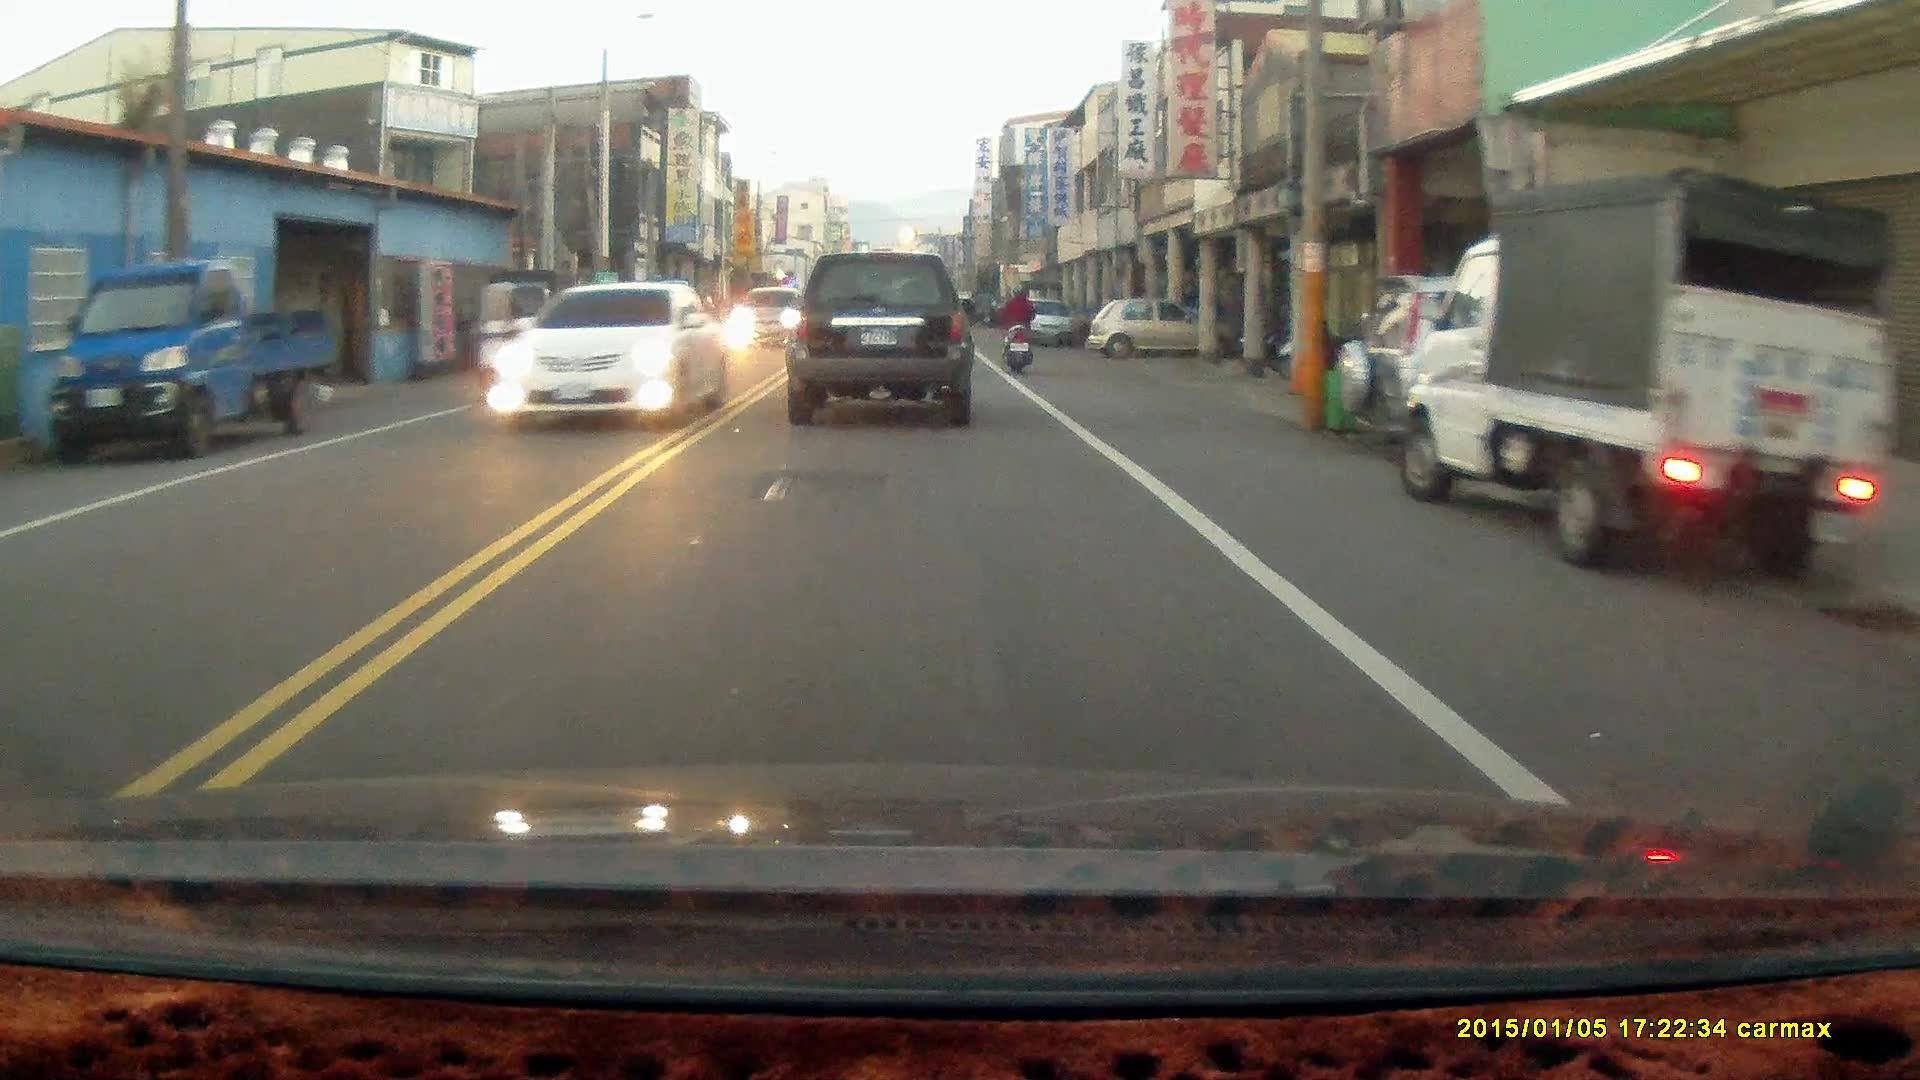rider: (463, 276, 522, 399), (997, 278, 1034, 373)
vehicle: (1396, 168, 1895, 585), (1342, 275, 1772, 456), (38, 261, 334, 465), (484, 278, 732, 429), (784, 248, 981, 427), (1088, 294, 1203, 357), (1016, 297, 1076, 348)
